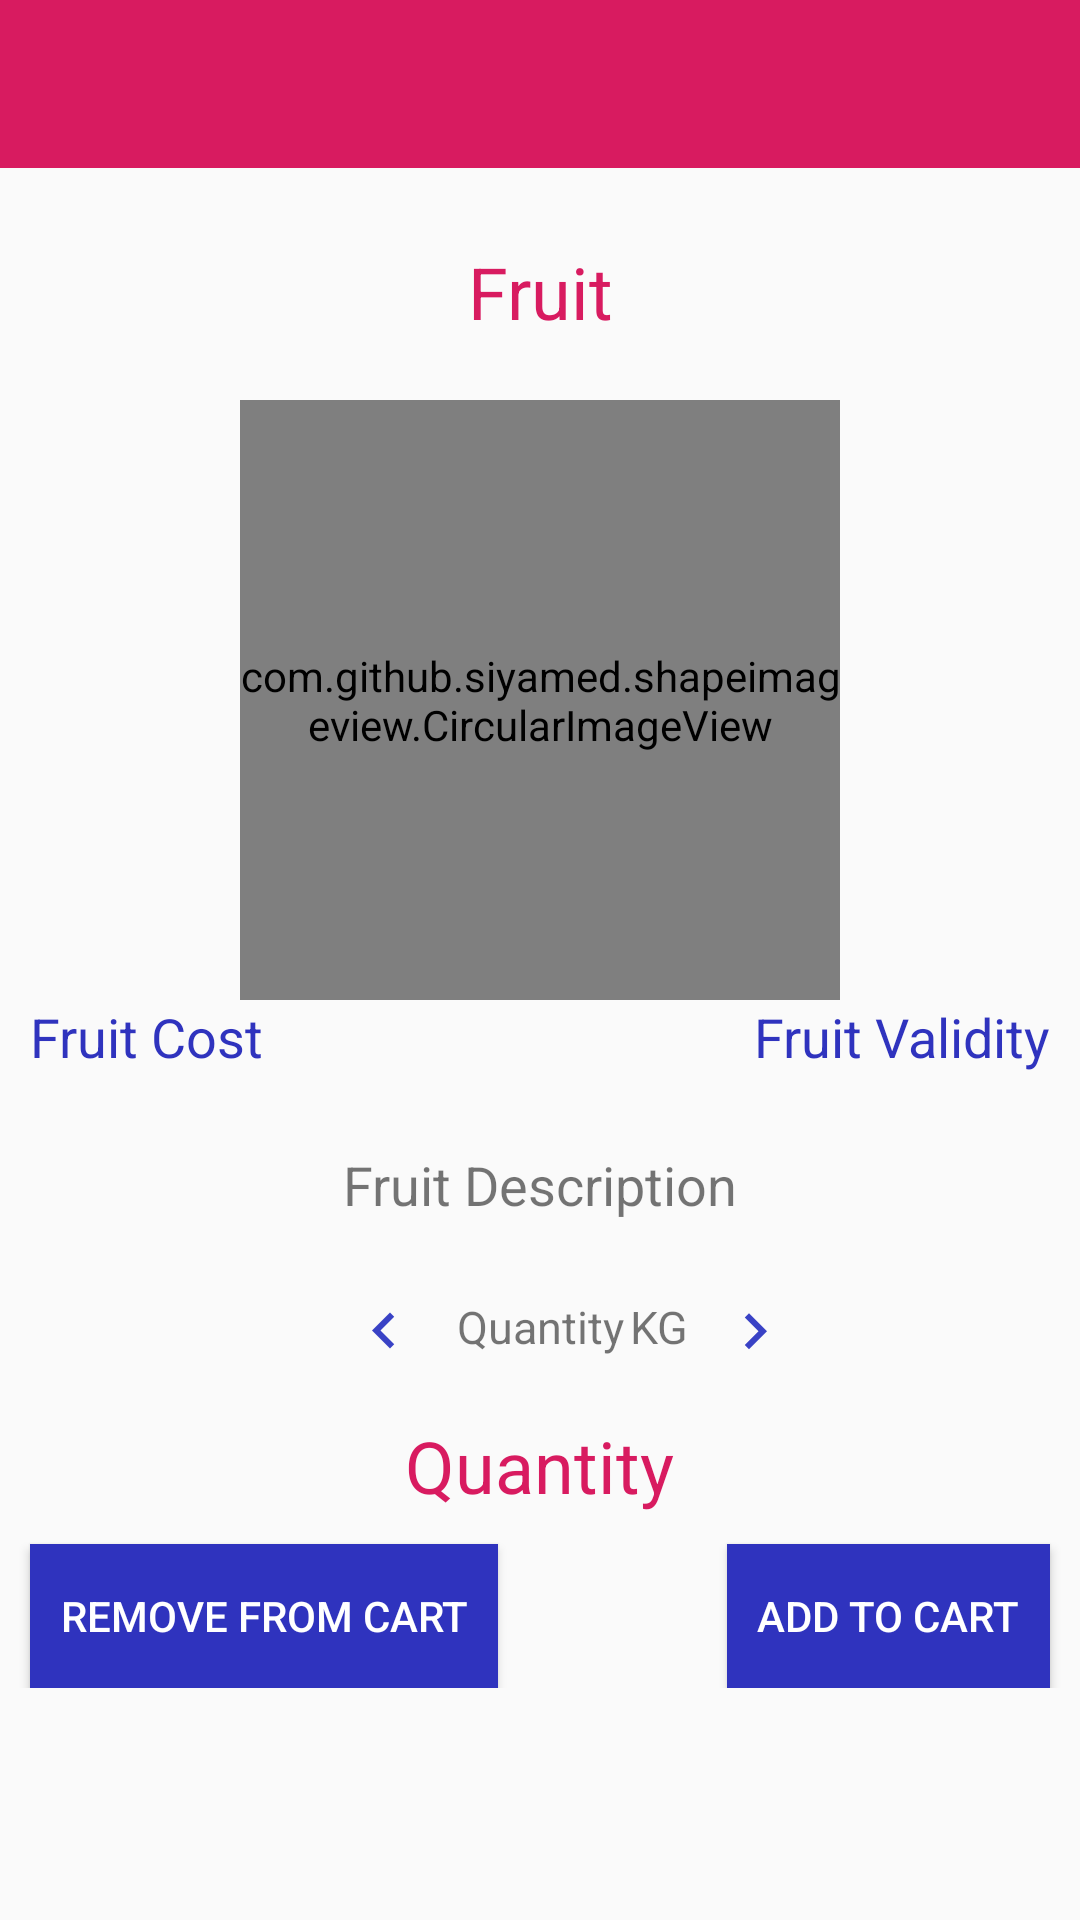

Screen size 1080px x 1920px. Icon name, then its box in pixels as (x1, y1, x2, y2):
arrow left: (372, 1313, 394, 1349)
arrow right: (745, 1313, 767, 1349)
